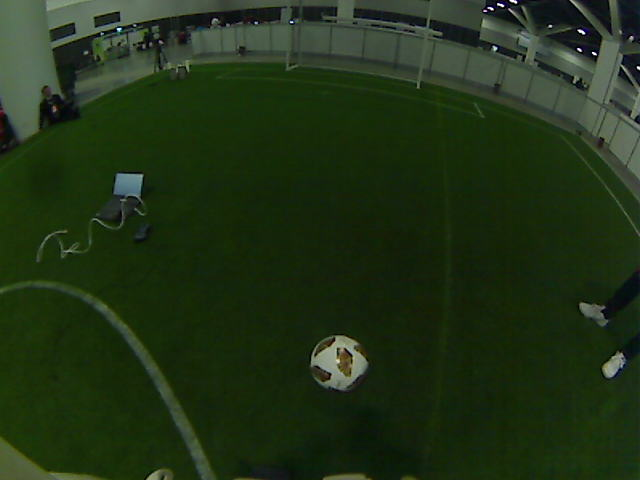ball: (318, 342, 358, 382)
goalpost: (398, 29, 438, 89), (283, 35, 291, 73)
robot: (172, 45, 187, 77)
